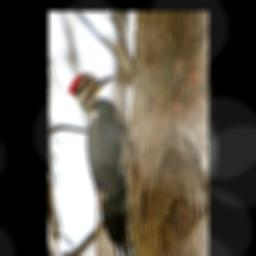Woodpecker: (67, 70, 138, 256)
